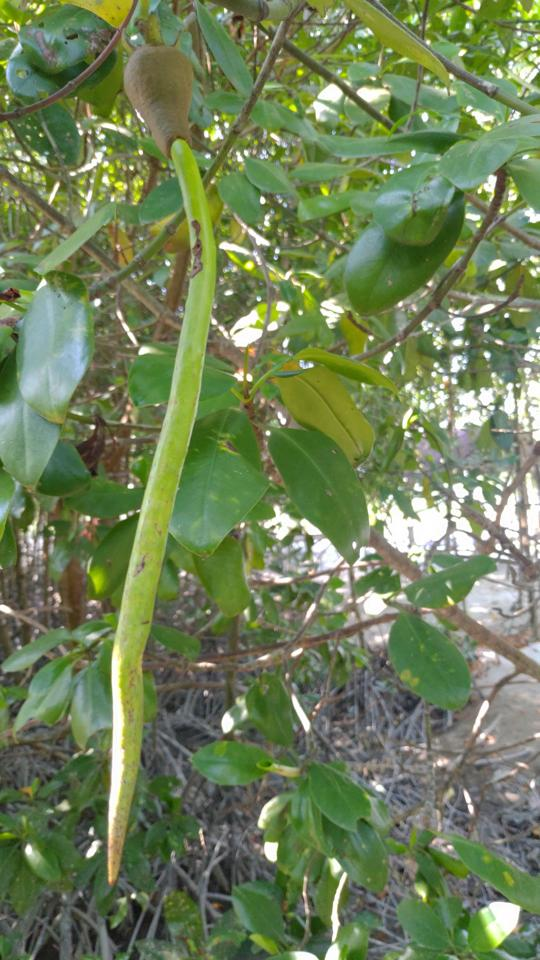mentah: (85, 23, 231, 901)
